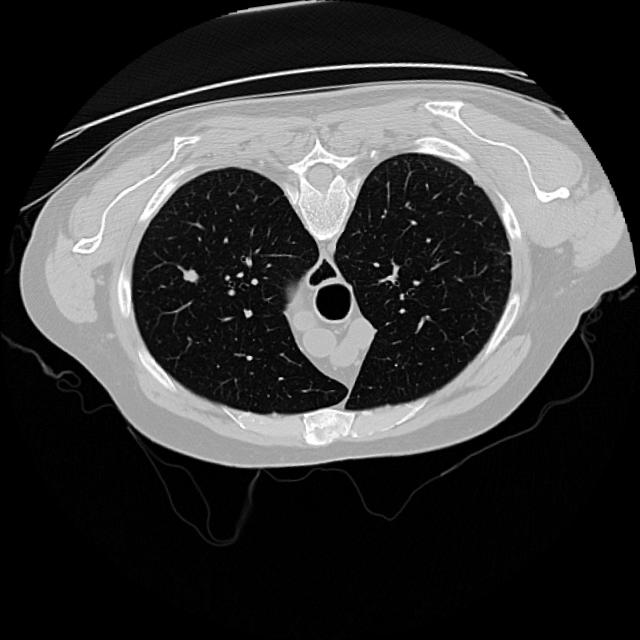nodule: (175, 260, 211, 296)
